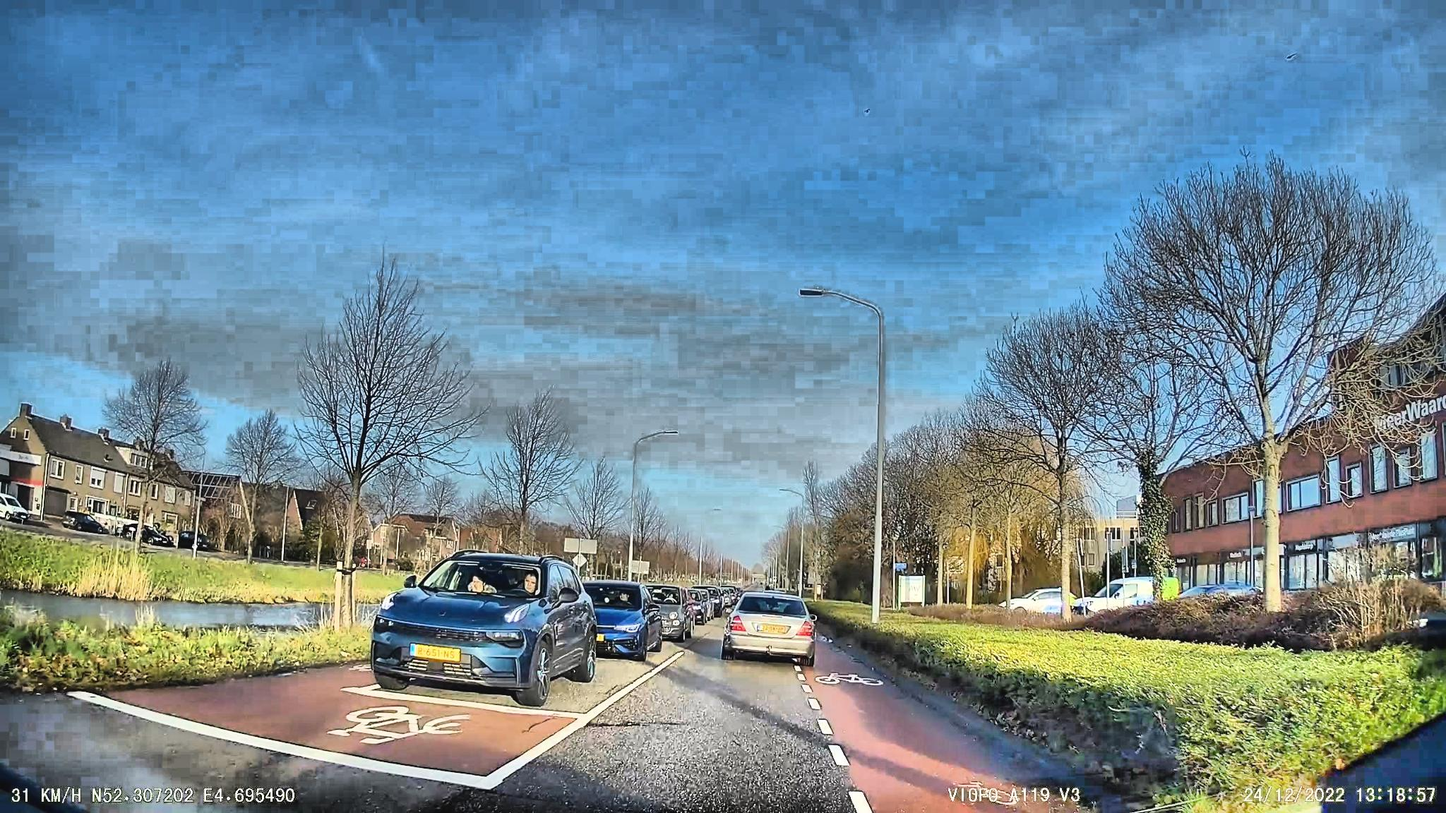Roads: (0, 619, 1039, 813)
